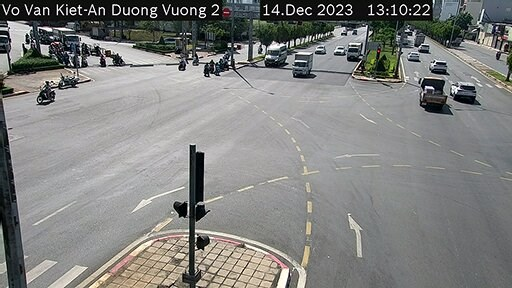car: (266, 42, 287, 73), (452, 80, 478, 100), (430, 58, 448, 73), (307, 45, 328, 55), (409, 51, 425, 62), (332, 44, 343, 55)
motorbike: (36, 83, 57, 107)
truck: (413, 75, 449, 106), (293, 49, 315, 79), (345, 38, 362, 60)
